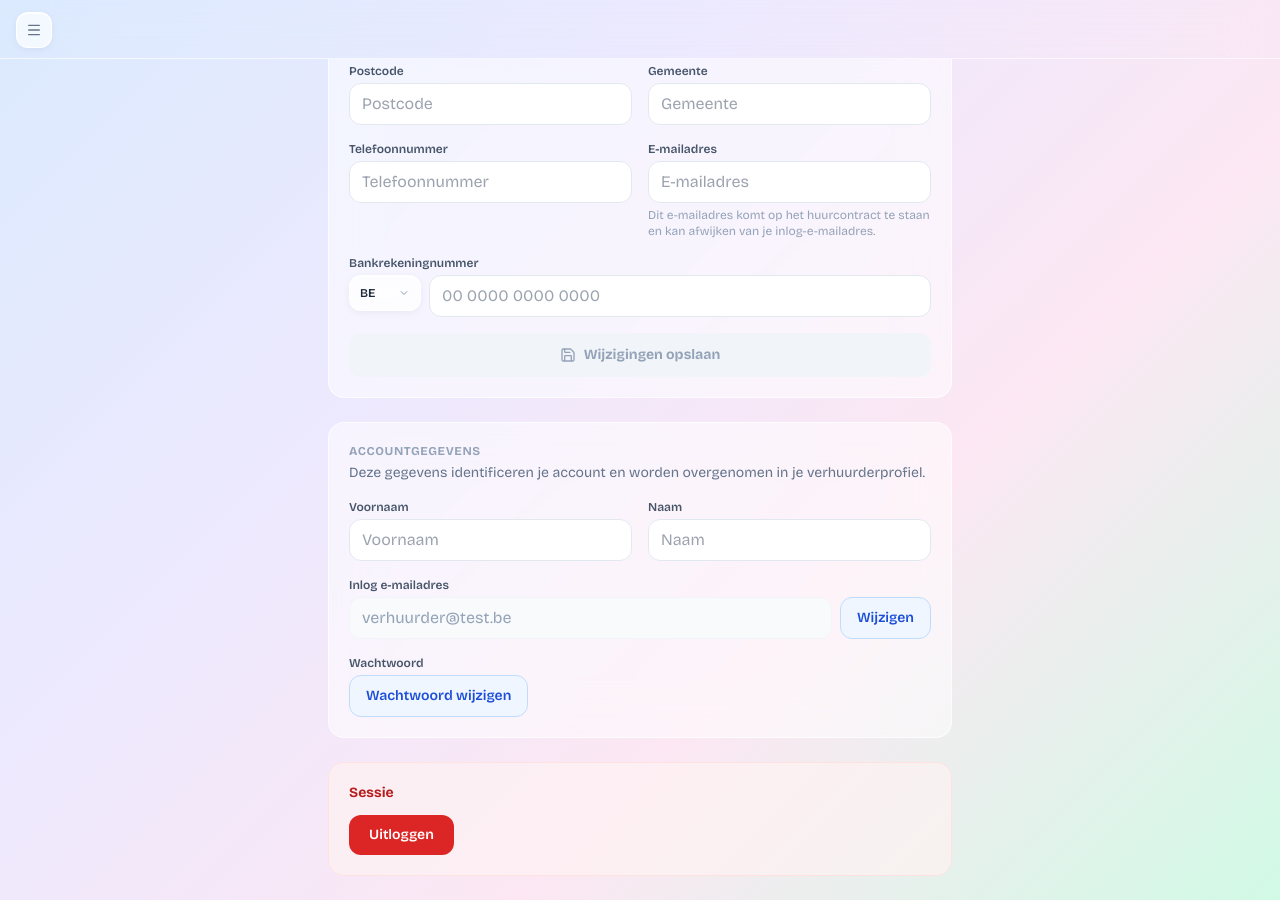
Test: AccountPage › toont foutmelding bij ongeldig nieuw e-mailadres
(page scrolled)
Step 1. Click the button "Wijzigen" → click(886, 618), box left=840, top=597, right=931, bottom=639
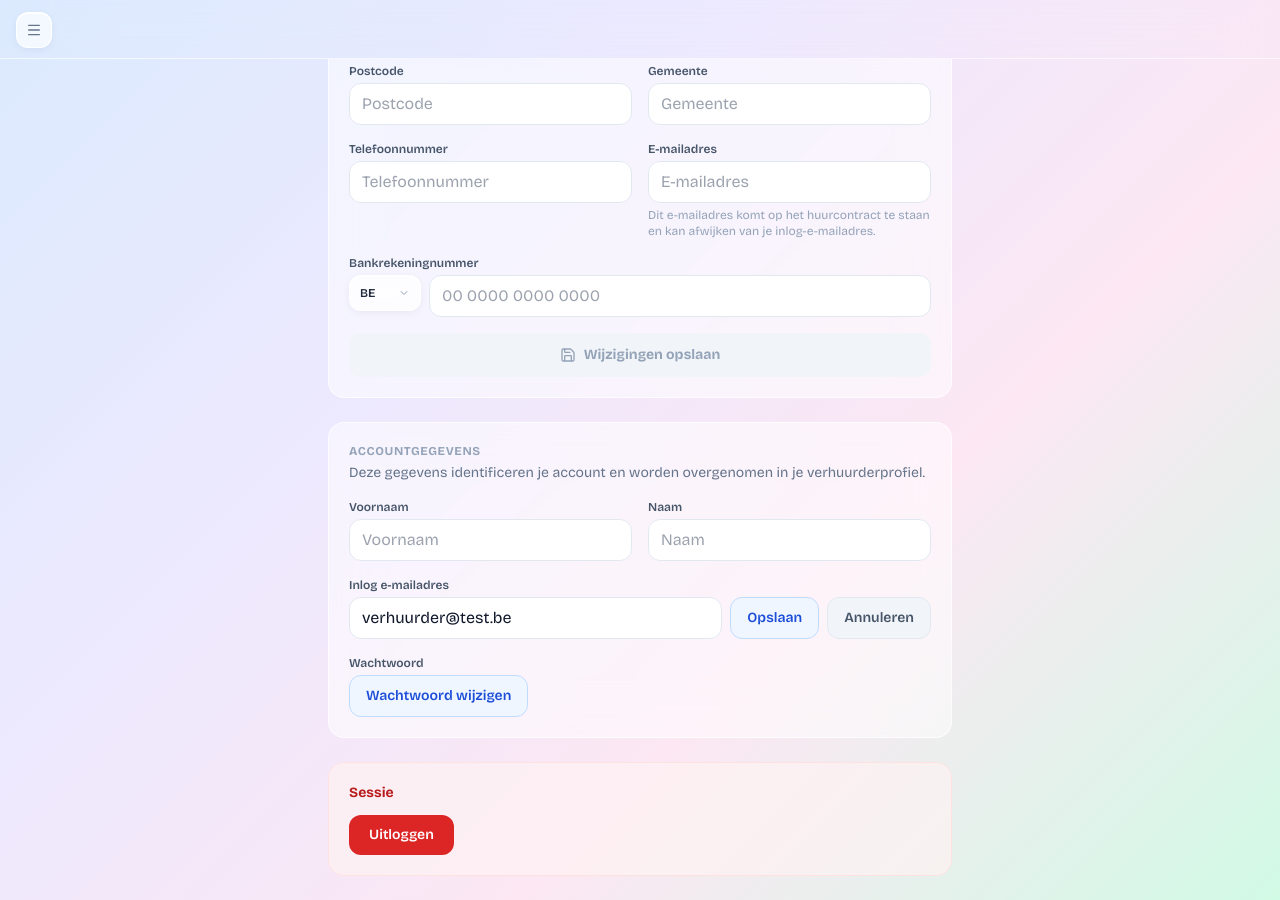
Step 2. Replace the text in the field named "Nieuw e-mailadres" with "geen-email" → (536, 618), box left=349, top=597, right=722, bottom=639
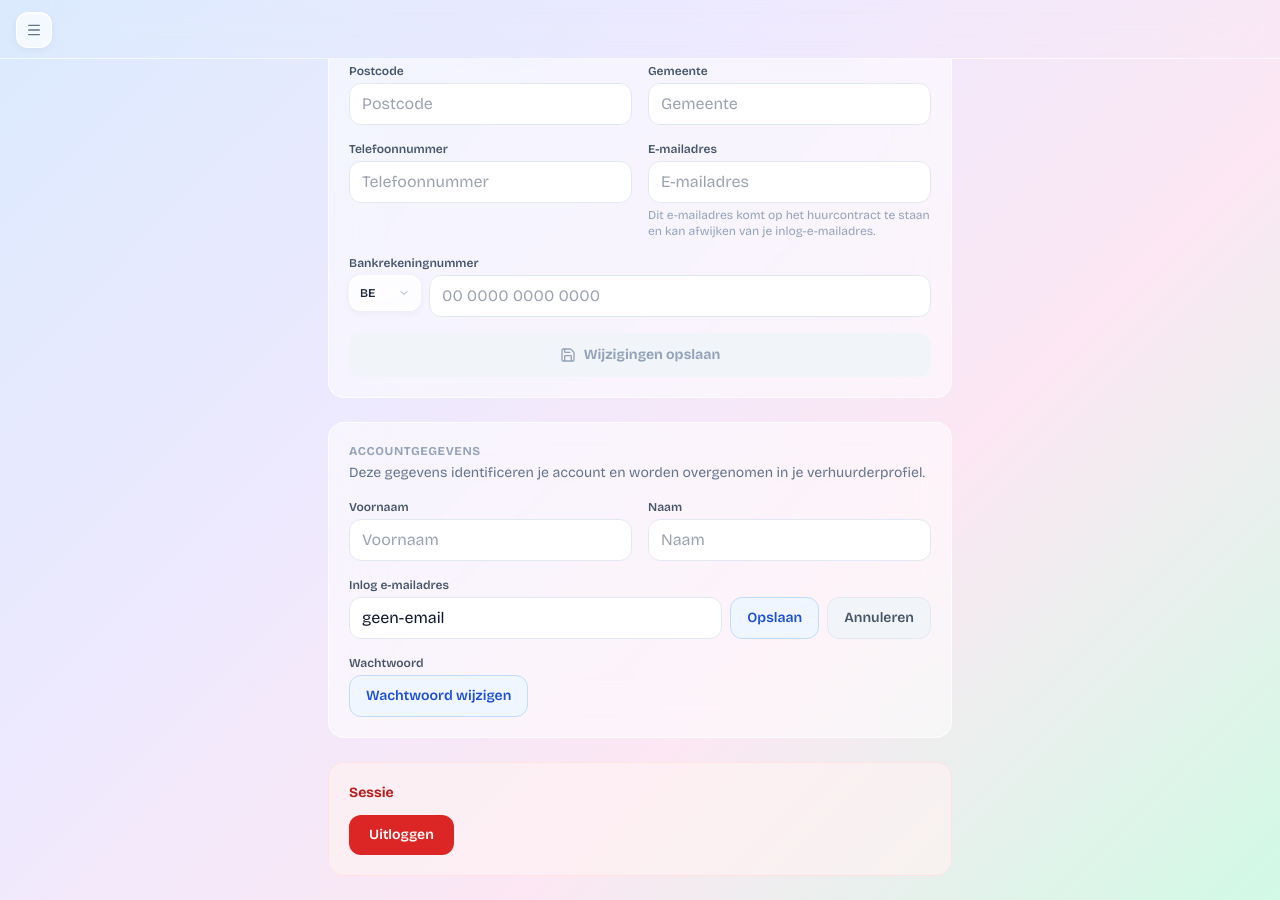
Step 3. Click the button "Opslaan" → click(775, 618), box left=730, top=597, right=819, bottom=639
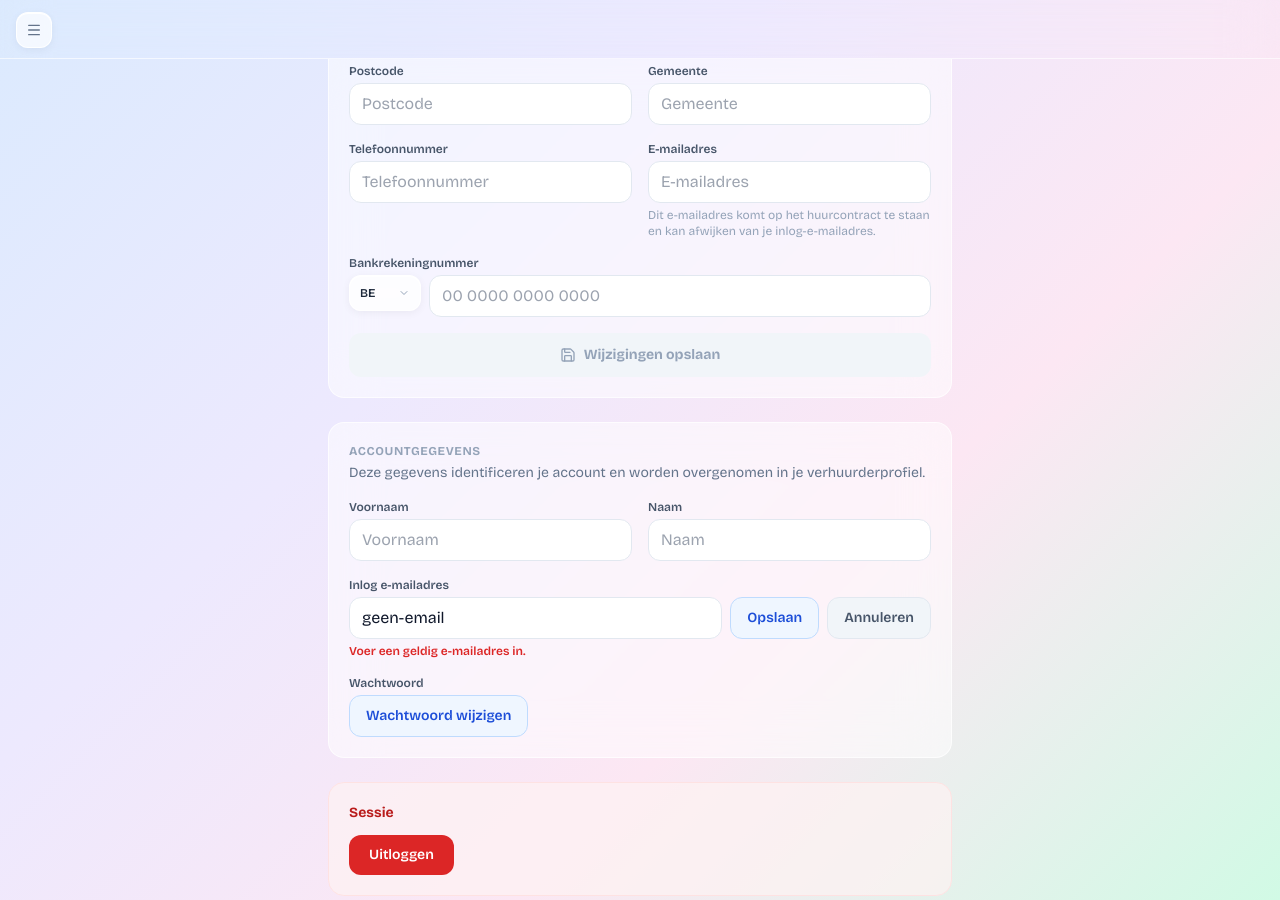
Now the text "Voer een geldig e-mailadres in." is shown, box left=349, top=644, right=526, bottom=658
